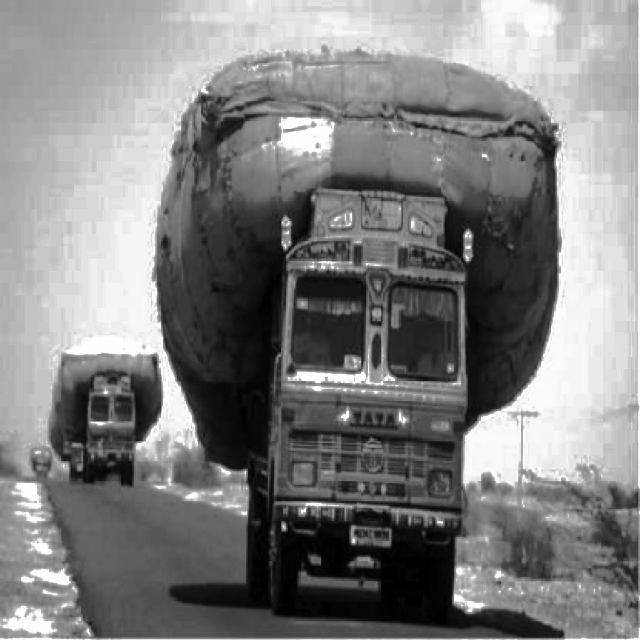HCV: (215, 156, 460, 616), (76, 320, 144, 480)
